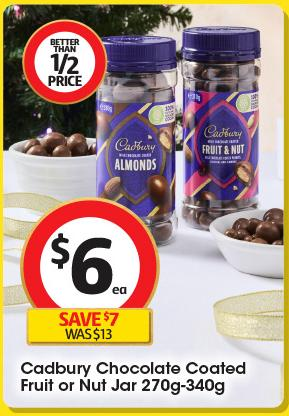description_block: (12, 352, 250, 397)
price_main: (16, 197, 161, 310)
product_image_block: (94, 26, 267, 247)
promo_text_block: (18, 305, 157, 348)
